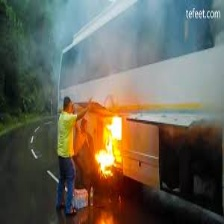fire: (92, 115, 124, 177)
smoke: (45, 1, 134, 99)
